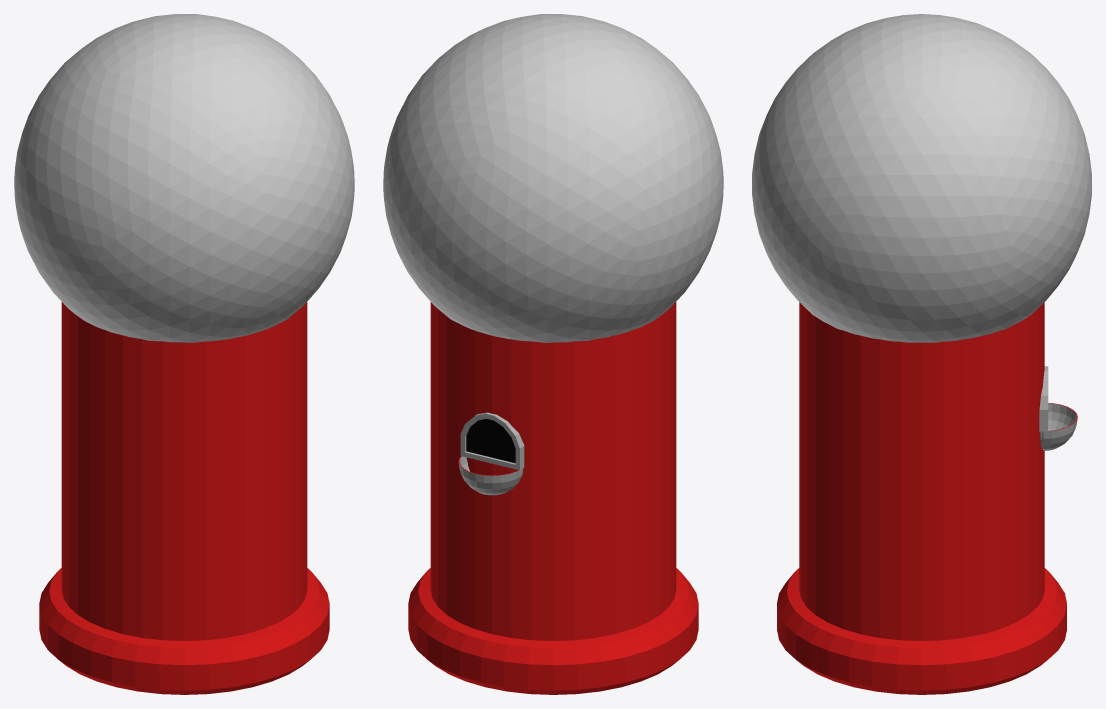
File: ds-Gumball_Machine-001.fbx
The picture shows the model from 3 angles, left to right: view 1: azimuth 30°, elevation 25°; view 2: azimuth 150°, elevation 25°; view 3: azimuth 270°, elevation 25°; orthographic projection.
Parts seen in each view (by area): view 1: Sphere; view 2: Sphere; view 3: Sphere.
Boxes of the visible parts, x1,y1,x2,y2 form: Sphere: (14,14,354,694); Sphere: (383,14,723,694); Sphere: (752,14,1091,694).
Bounding box in the file's own units: 200 × 393 × 200.
